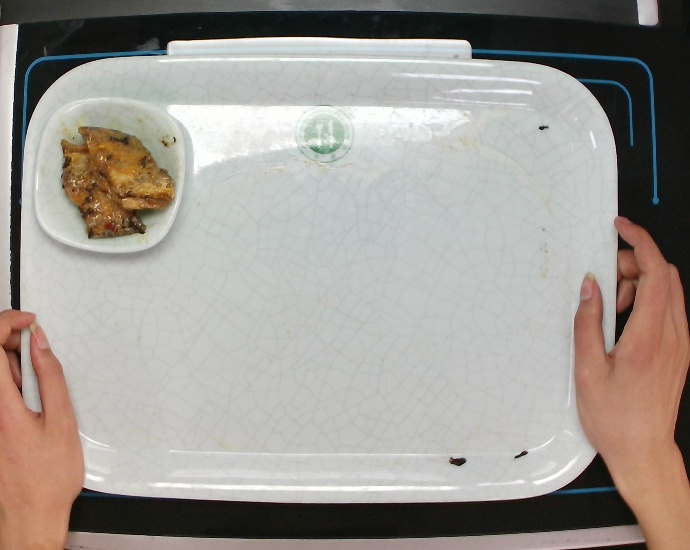JYsf-Si_Fang_Die: (23, 86, 199, 272)
